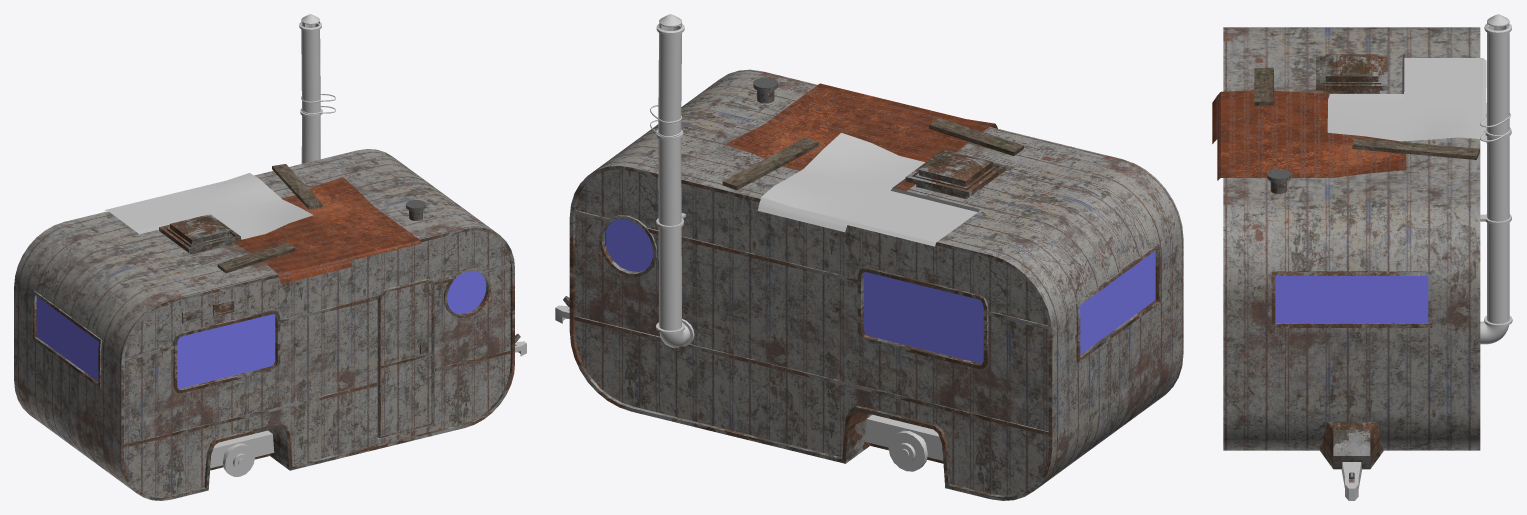
Rendered from Component_Caravan_grp.fbx.
3 renders of one model, left to right at view 1: azimuth 30°, elevation 25°; view 2: azimuth 150°, elevation 25°; view 3: azimuth 270°, elevation 25°, orthographic. The views are drawn at different scales.
Parts seen in each view (by area): view 1: caravan_metalPlateC, caravan_metalA, caravan_windows, caravan_metalPlateB, caravan_metalPlateA, caravan_metalRust, caravan_wood; view 2: caravan_metalPlateC, caravan_metalA, caravan_windows, caravan_metalPlateA, caravan_metalRust, caravan_metalPlateB, caravan_wood; view 3: caravan_metalPlateC, caravan_metalPlateB, caravan_metalPlateA, caravan_metalRust, caravan_metalA, caravan_windows, caravan_wood, caravan_metalC.
Part boxes in pixels (x1,y1,x2,y2): caravan_metalPlateC: [14, 149, 510, 496]; caravan_metalA: [33, 214, 520, 500]; caravan_windows: [36, 271, 486, 388]; caravan_metalPlateB: [233, 177, 421, 283]; caravan_metalPlateA: [105, 173, 313, 239]; caravan_metalRust: [210, 14, 526, 476]; caravan_wood: [217, 164, 322, 273]; caravan_metalPlateC: [575, 69, 1183, 495]; caravan_metalA: [563, 150, 1160, 500]; caravan_windows: [605, 219, 1155, 363]; caravan_metalPlateA: [758, 133, 979, 246]; caravan_metalRust: [555, 14, 943, 471]; caravan_metalPlateB: [725, 83, 997, 190]; caravan_wood: [722, 118, 1023, 190]; caravan_metalPlateC: [1223, 27, 1480, 450]; caravan_metalPlateB: [1212, 90, 1406, 180]; caravan_metalPlateA: [1327, 52, 1486, 143]; caravan_metalRust: [1341, 14, 1512, 500]; caravan_metalA: [1271, 54, 1432, 482]; caravan_windows: [1275, 276, 1428, 323]; caravan_wood: [1254, 67, 1479, 159]; caravan_metalC: [1267, 168, 1290, 193].
Bounding box in the file's own units: 642 × 455 × 303.
